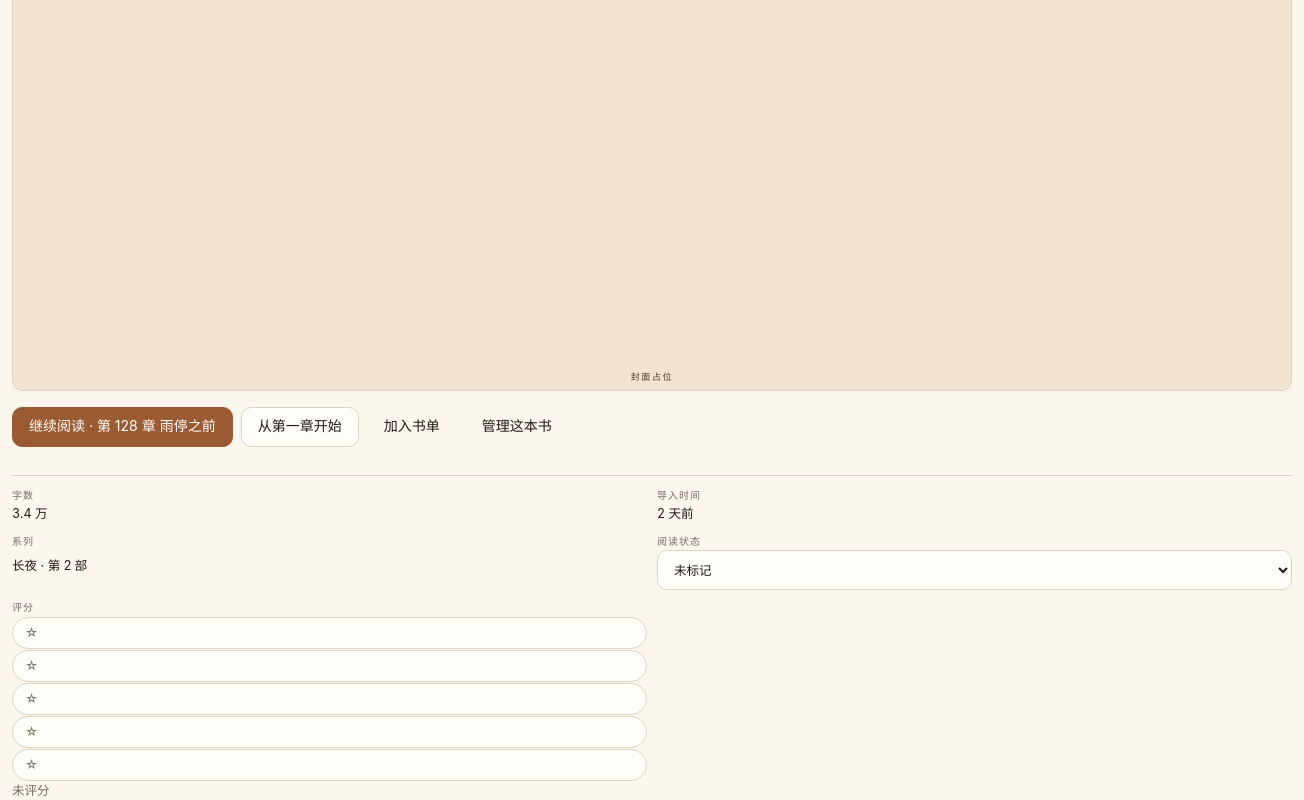
Test: 详情页左栏锚点 › C-08 hover 只做预览：点亮目标星但不改 aria-pressed 与标签
(page scrolled)
Hover over the button with test id "book-rating-star-4" at coordinates (32, 731), box [12,716,647,748]
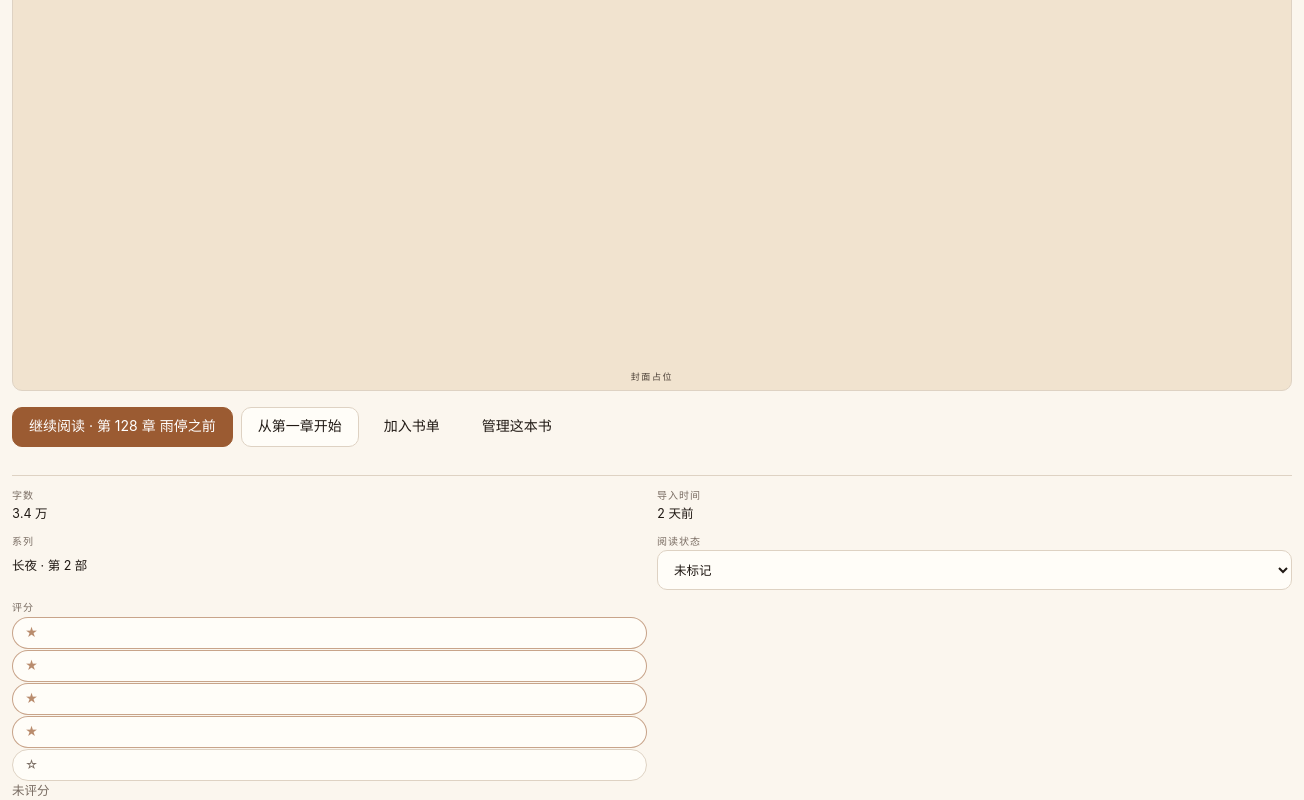
Check: the text with test id "book-rating-label" reads "未评分", box [12,782,50,798]
Check: the button with test id "book-rating-star-4" reads "★", box [12,716,647,748]
Move the pointer off the element "评分", box [12,616,647,799]
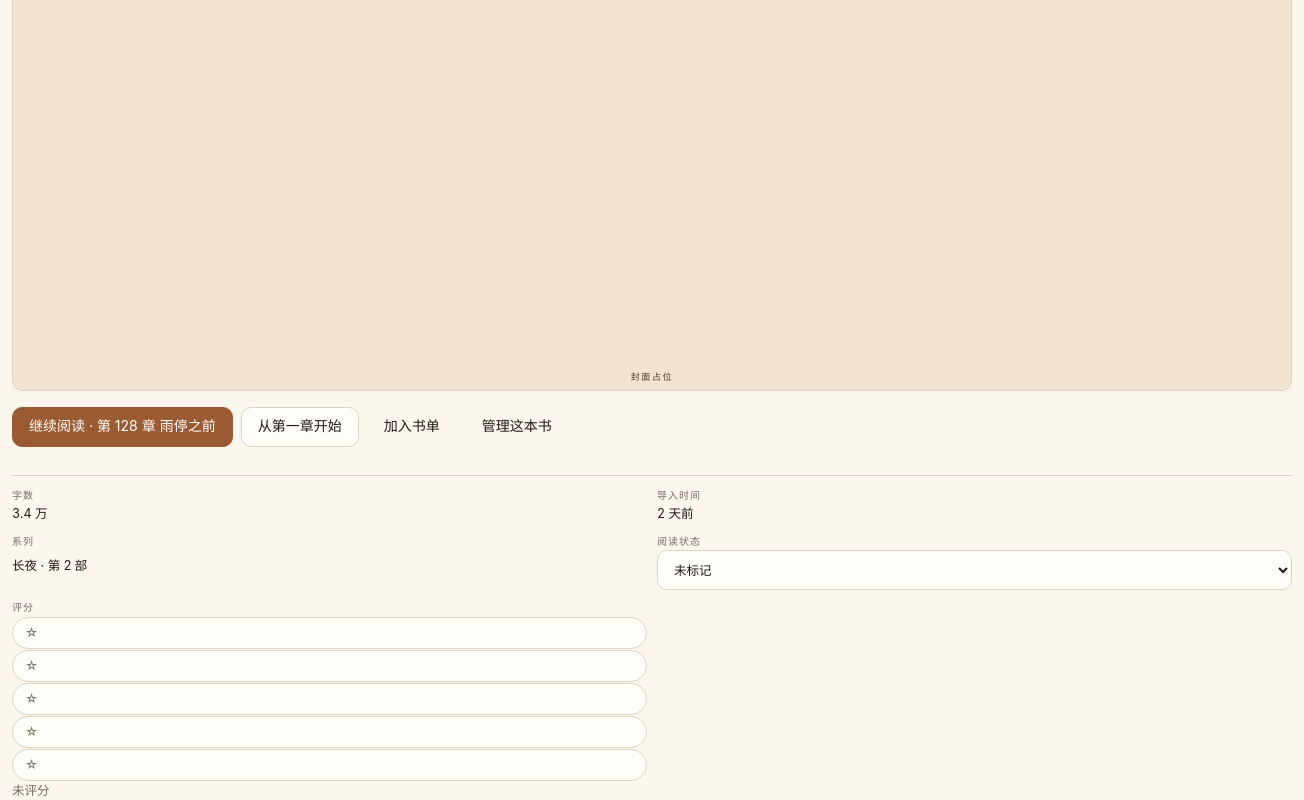
Check: the button with test id "book-rating-star-4" reads "☆", box [12,716,647,748]
